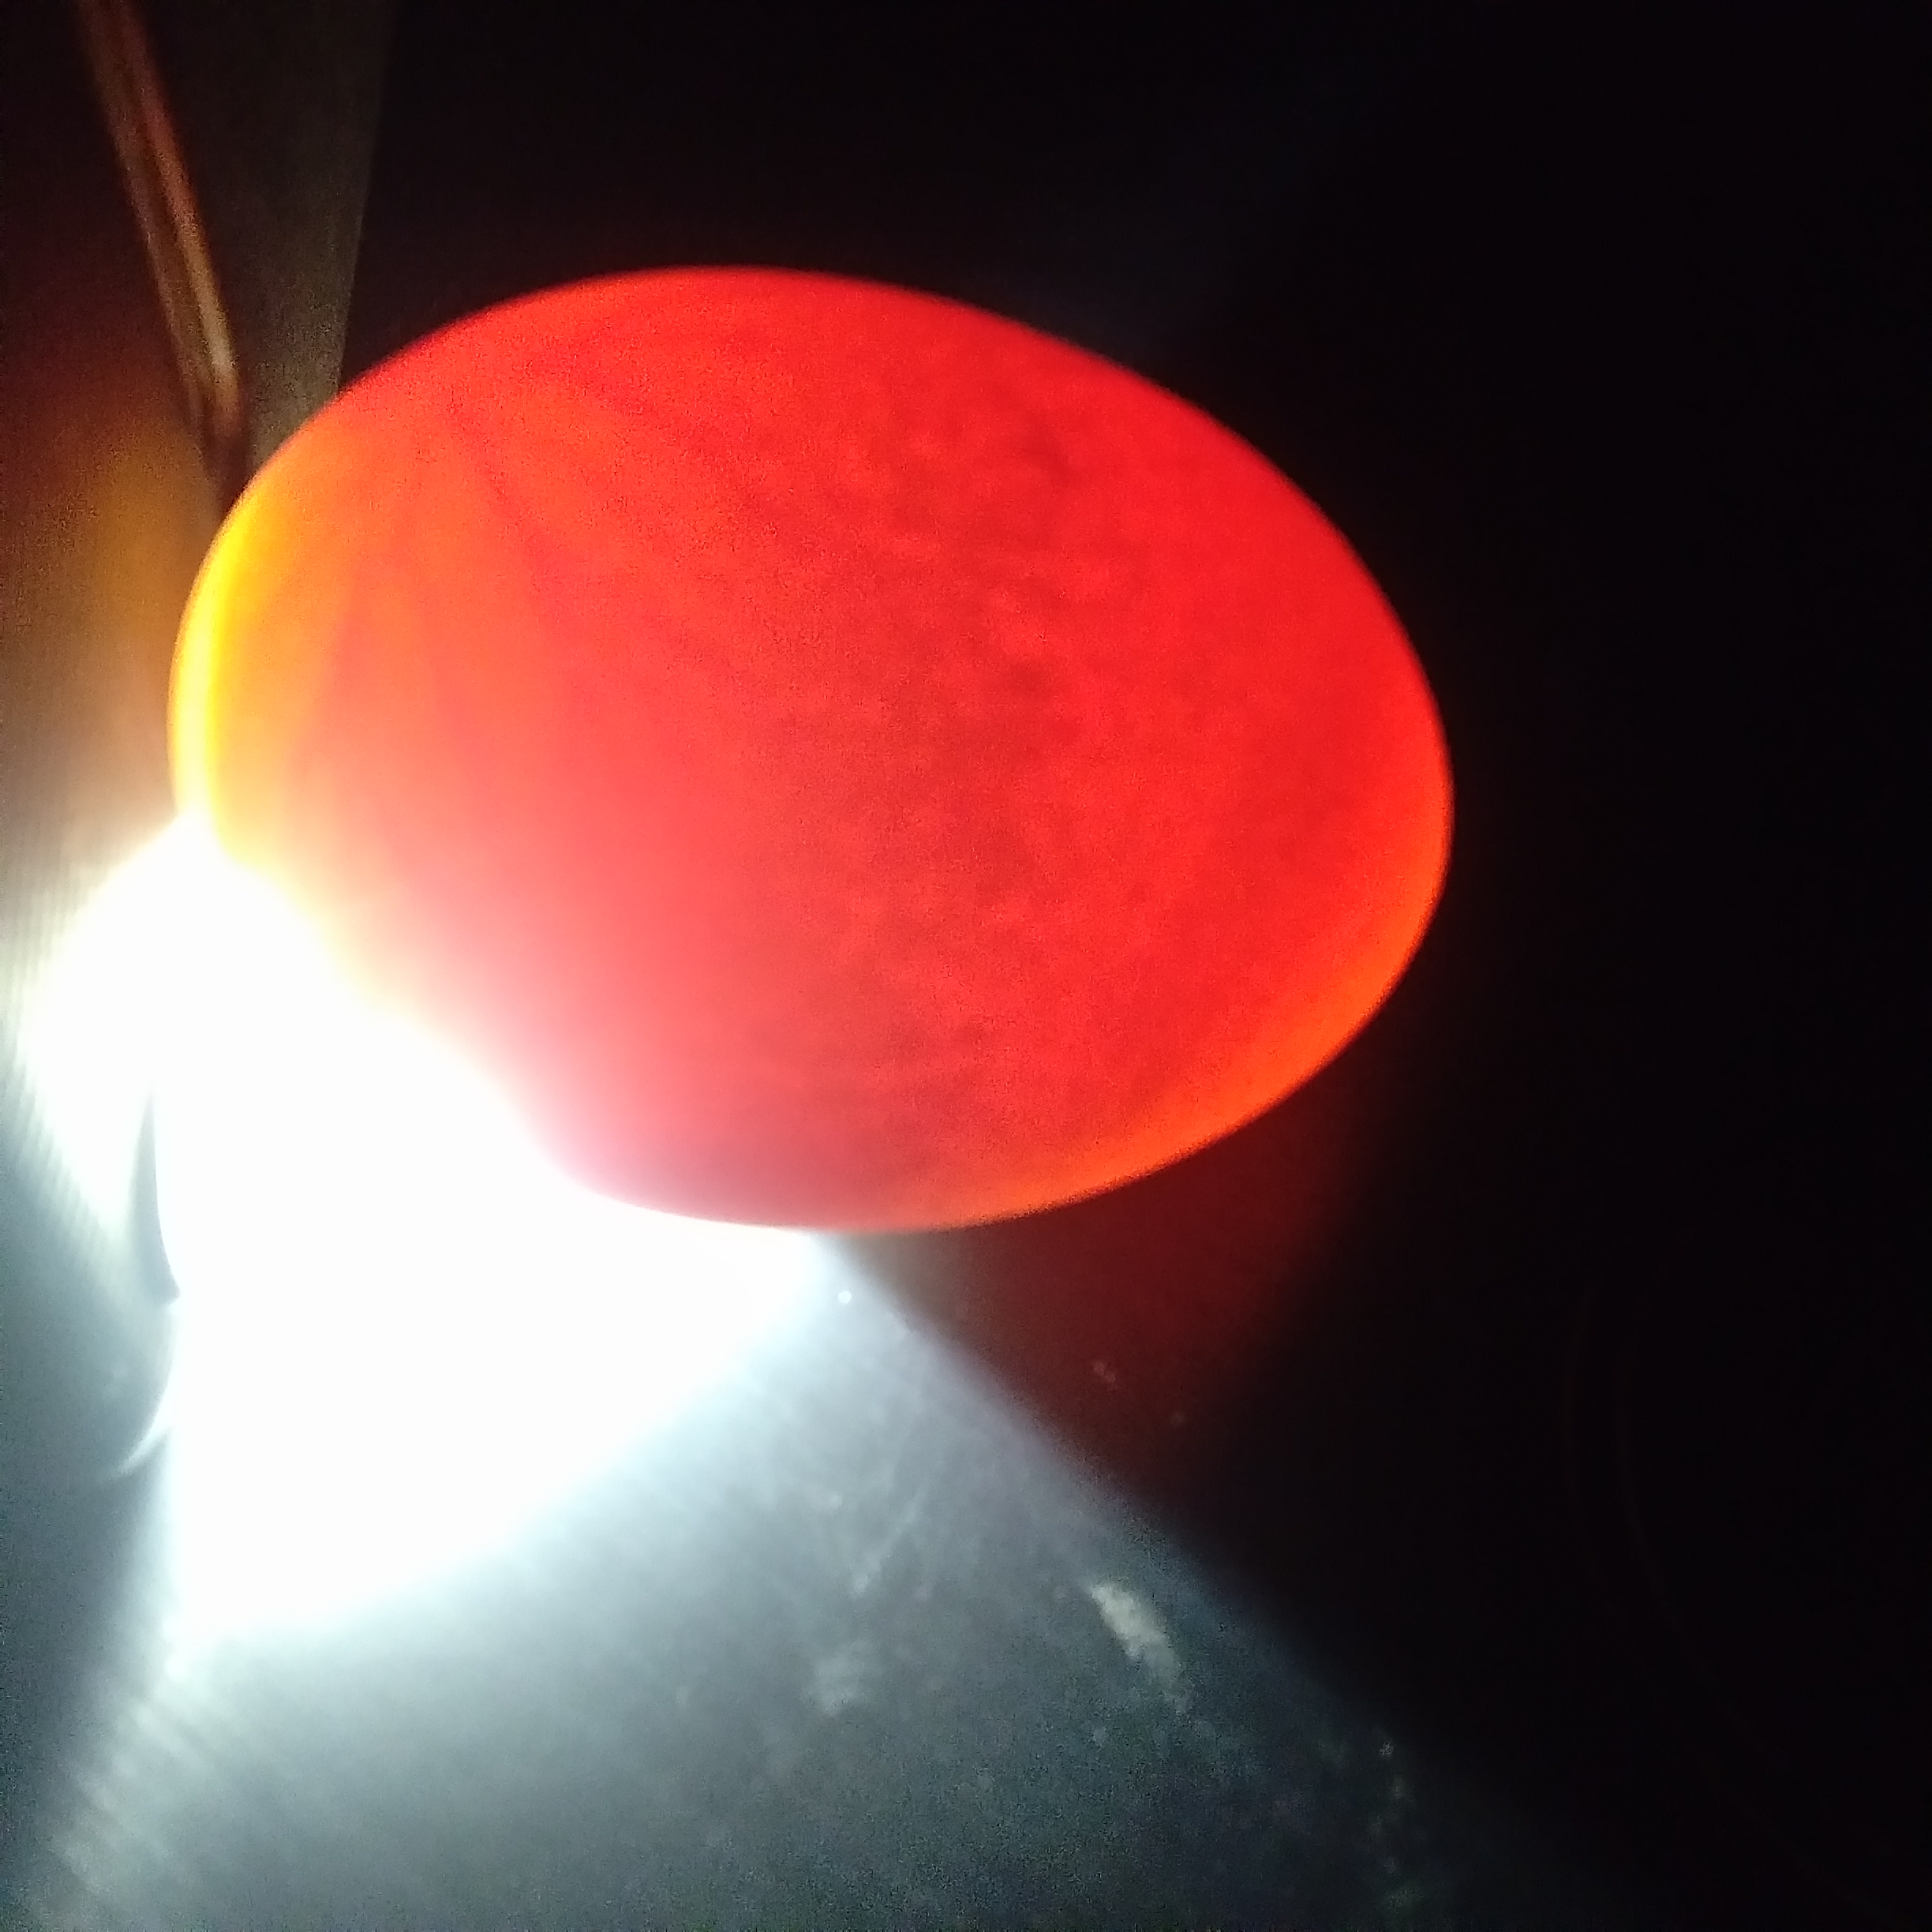bloodcell: (285, 504, 708, 876), (409, 352, 685, 474)
